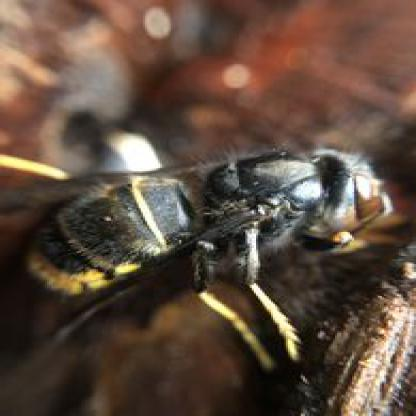Asian Hornet: (0, 140, 377, 346)
